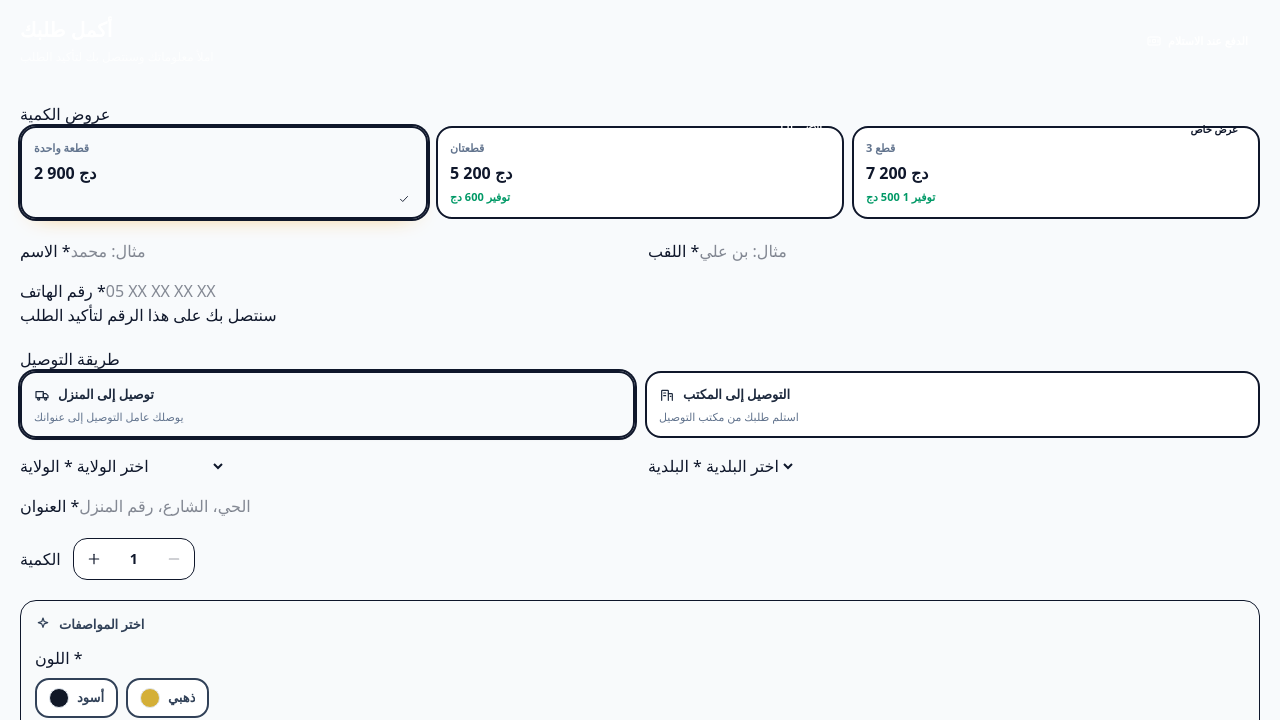
Test case: SOUQ — COD form interactions › swaps the address field for the office field when delivery changes
expect the field labelled "العنوان *" is shown: met, box [79,494,310,518]
Step 1. Click the radio button labelled "التوصيل إلى المكتب استلم طلبك من مكتب التوصيل" → (737, 394), box [645,371,1260,438]
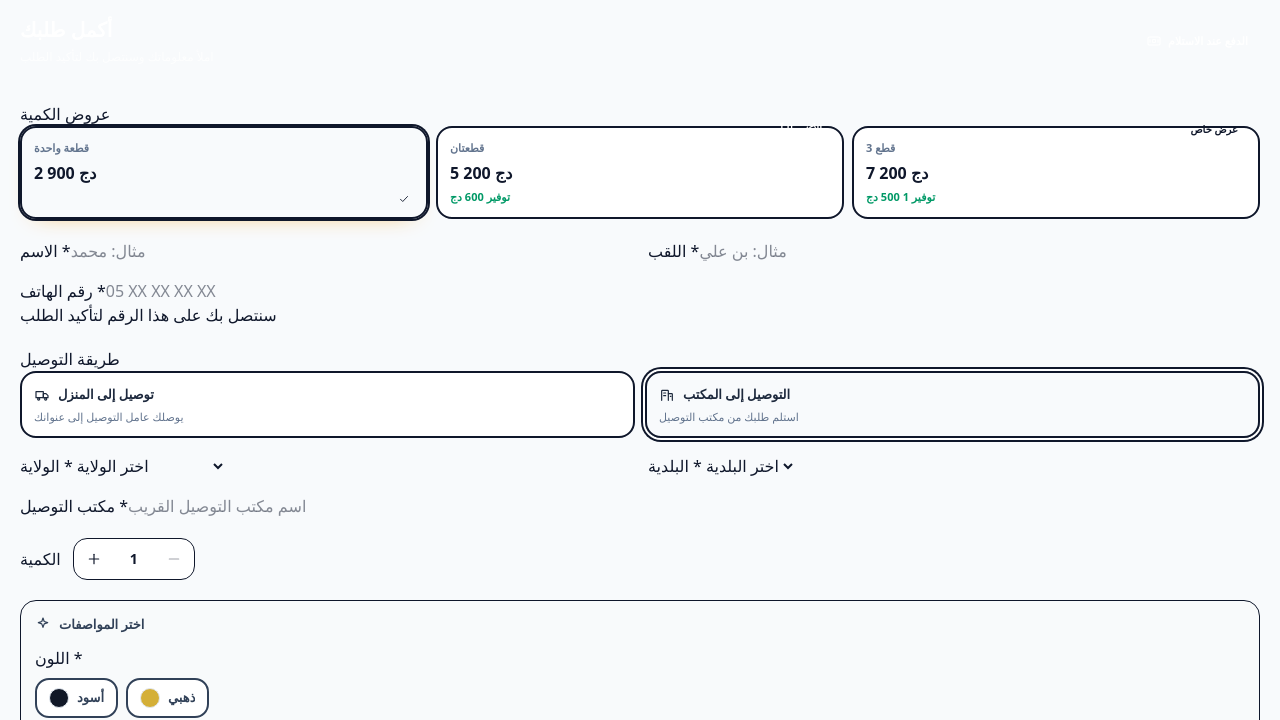
expect the label with id "souq-address" is gone: met
